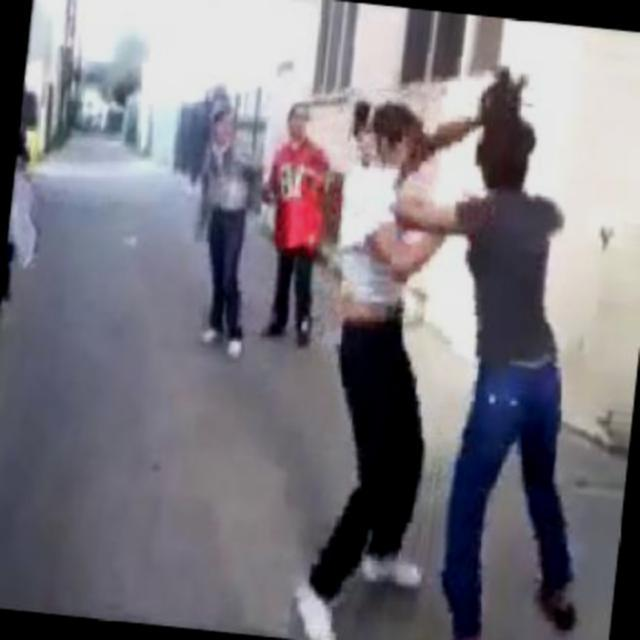fight: (317, 63, 586, 483)
non-fight: (188, 86, 270, 342), (254, 90, 344, 322)
